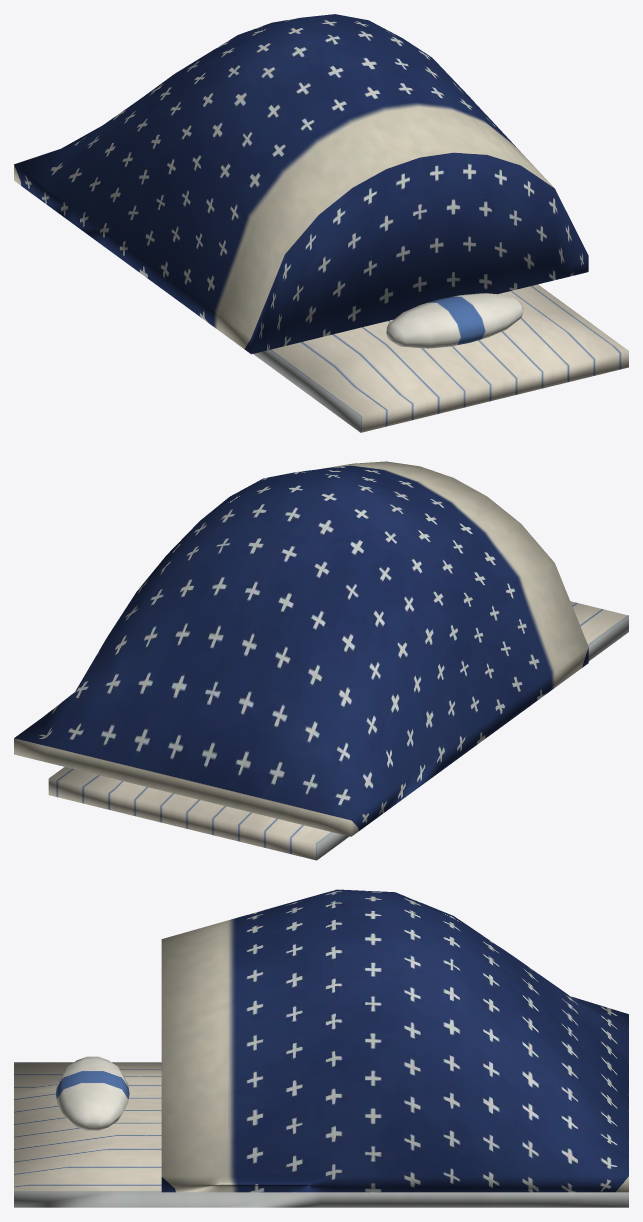
Rendered from futon.glb.
3 renders of one model, top to bottom at view 1: azimuth 30°, elevation 25°; view 2: azimuth 150°, elevation 25°; view 3: azimuth 270°, elevation 25°, orthographic.
Parts seen in each view (by area): view 1: FutonKake, FutonShiki, FutonMakura; view 2: FutonKake, FutonShiki; view 3: FutonKake, FutonShiki, FutonMakura.
Boxes of the visible parts, box(x1,y1,x2,y2) form: FutonKake: box(14, 14, 588, 354); FutonShiki: box(253, 284, 628, 432); FutonMakura: box(386, 293, 523, 348); FutonKake: box(14, 461, 588, 836); FutonShiki: box(48, 601, 628, 860); FutonKake: box(161, 889, 628, 1192); FutonShiki: box(14, 1062, 628, 1207); FutonMakura: box(56, 1056, 129, 1130).
Size of the model in its own units: 0.78 by 0.5388 by 1.25.
3 materials, 3 textured.
